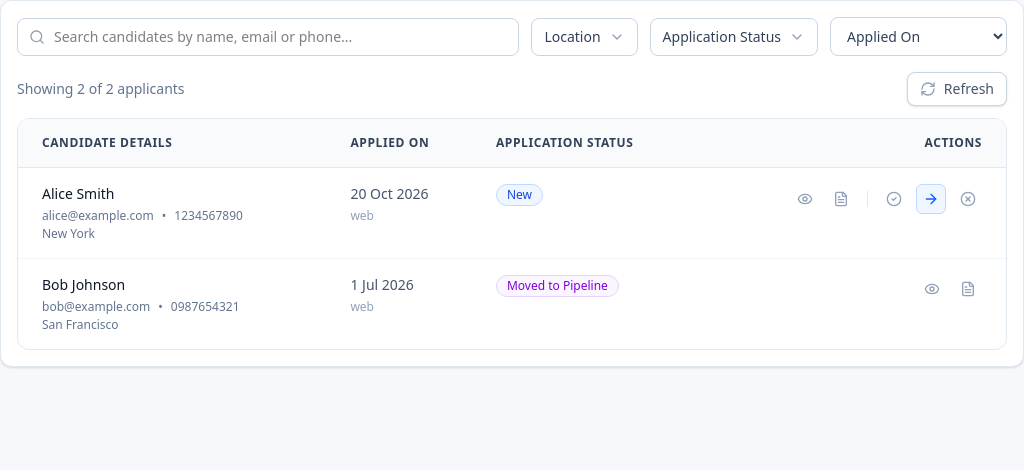
Test: JobApplicantsTab Filtering › shows empty state when no results match
Type "Nobody" into the field with placeholder "Search candidates by name, email or phone..." at (268, 36), box [17,18,519,56]
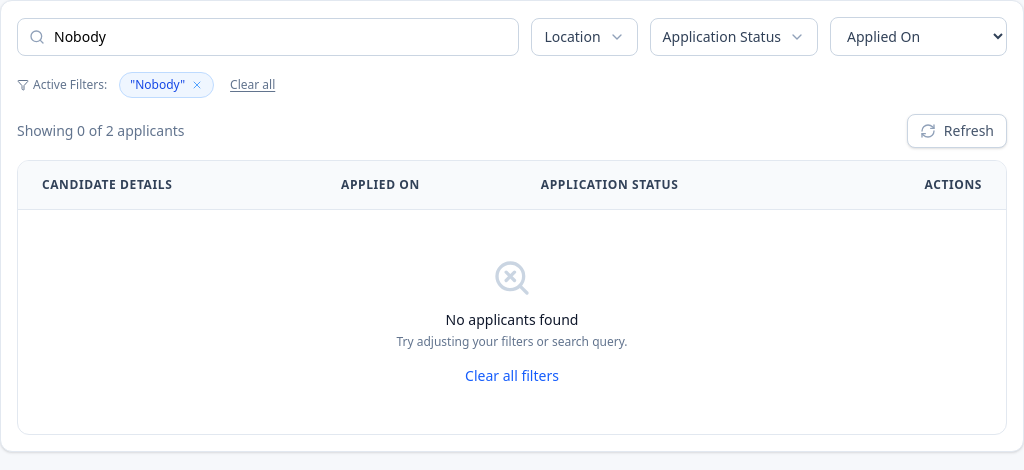
Now the text "No applicants found" is shown, box [446,310,578,330]
Now the button "Clear all filters" is shown, box [465,366,559,386]
